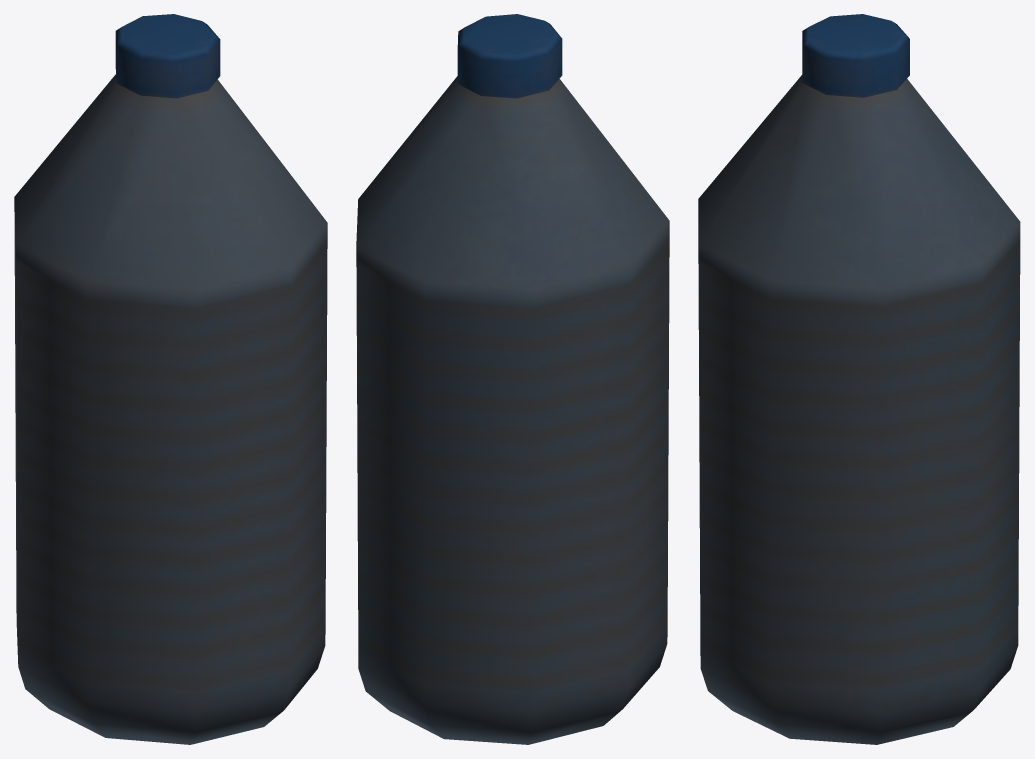
Rendered from SM_Water_Bottle_A.fbx.
The picture shows the model from 3 angles, left to right: view 1: azimuth 30°, elevation 25°; view 2: azimuth 150°, elevation 25°; view 3: azimuth 270°, elevation 25°; orthographic projection.
Visible parts, largest first — view 1: SM_Water_Bottle_A; view 2: SM_Water_Bottle_A; view 3: SM_Water_Bottle_A.
Boxes of the visible parts, left/top/right/bottom form: SM_Water_Bottle_A: left=14, top=14, right=327, bottom=744; SM_Water_Bottle_A: left=356, top=14, right=669, bottom=744; SM_Water_Bottle_A: left=698, top=14, right=1020, bottom=744.
Size of the model in its own units: 13.89 by 32.1 by 14.2.
